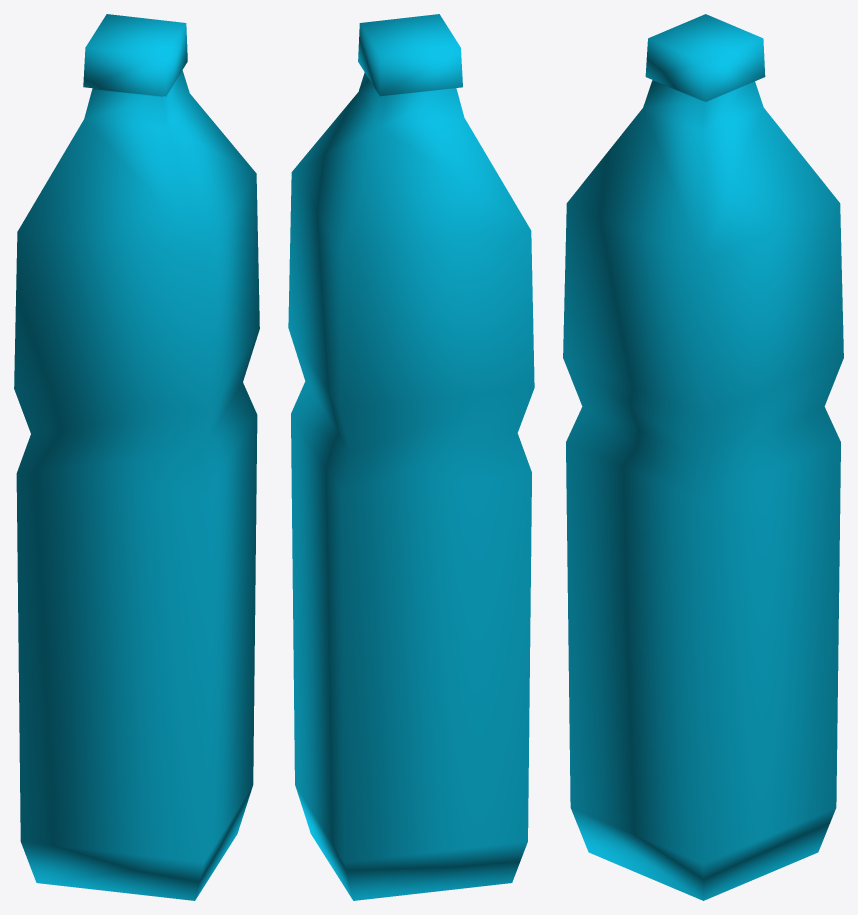
Rendered from Bottle_Water_01_Lod2.fbx.
The picture shows the model from 3 angles, left to right: view 1: azimuth 30°, elevation 25°; view 2: azimuth 150°, elevation 25°; view 3: azimuth 270°, elevation 25°; orthographic projection.
Parts seen in each view (by area): view 1: Bottle_Water_01_Lod2; view 2: Bottle_Water_01_Lod2; view 3: Bottle_Water_01_Lod2.
Boxes of the visible parts, box(x1,y1,x2,y2) form: Bottle_Water_01_Lod2: box(14, 14, 259, 900); Bottle_Water_01_Lod2: box(288, 14, 534, 900); Bottle_Water_01_Lod2: box(563, 14, 843, 900).
Size of the model in its own units: 8.97 by 28.67 by 8.97.
